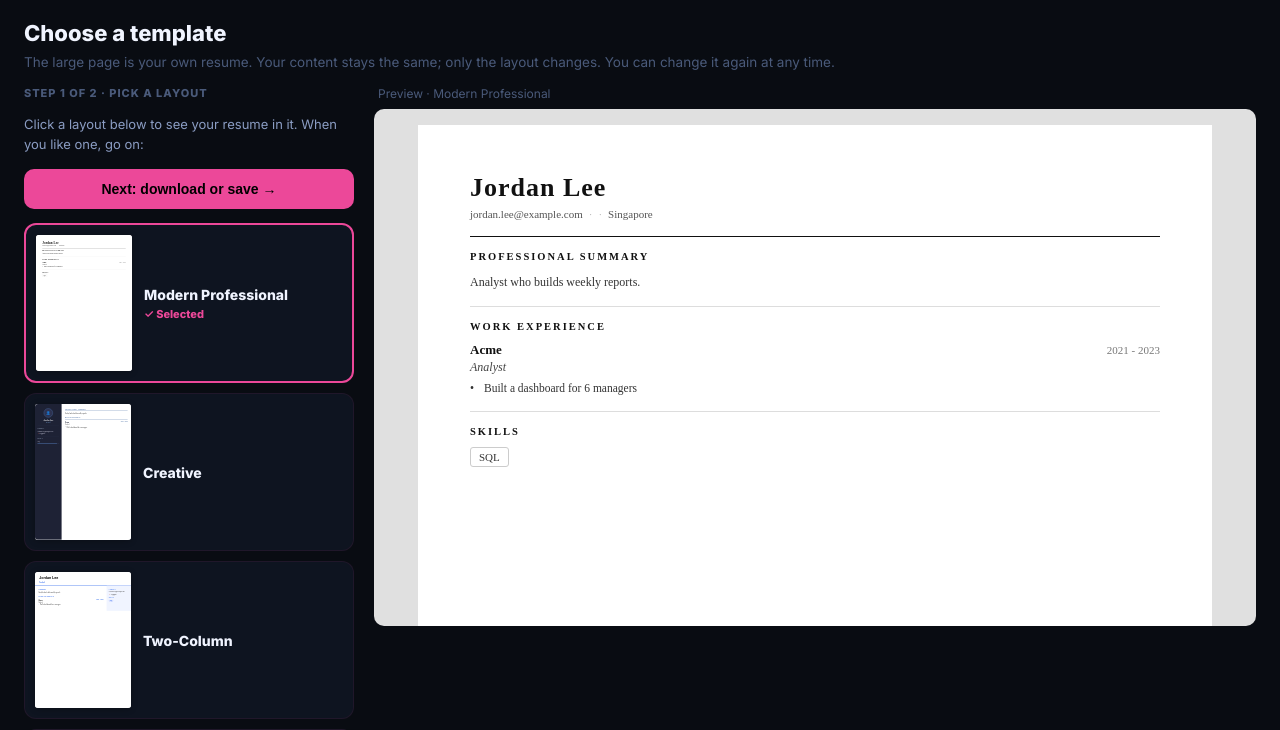
Test: the two steps › Next shows Step 2 of 2 with the actions: Download PDF as the main one, Word, and Save this version
Click the button "Next: download or save →".
click(189, 189)  # box [24, 169, 354, 209]
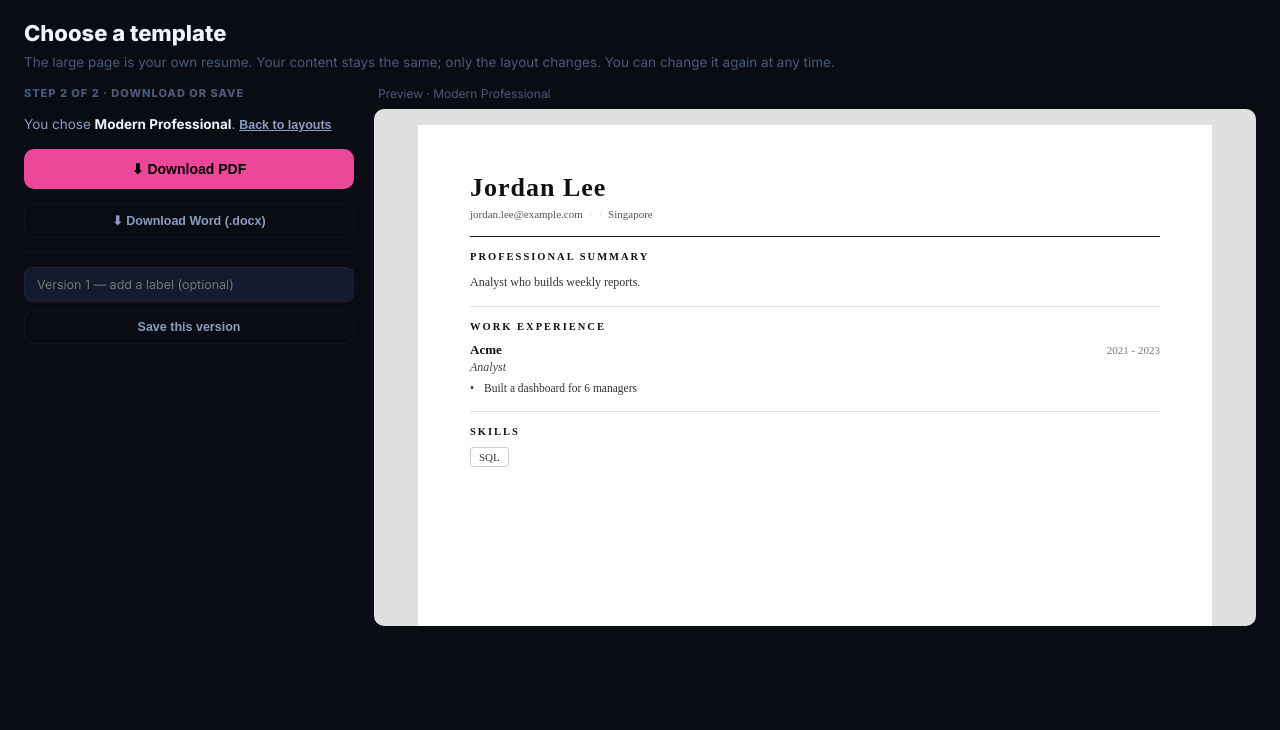
Now the text "Step 2 of 2 · Download or save" is shown, box [24, 86, 244, 100]
Now the button "⬇ Download Word (.docx)" is shown, box [24, 203, 354, 238]
Now the button "Save this version" is shown, box [24, 310, 354, 344]
